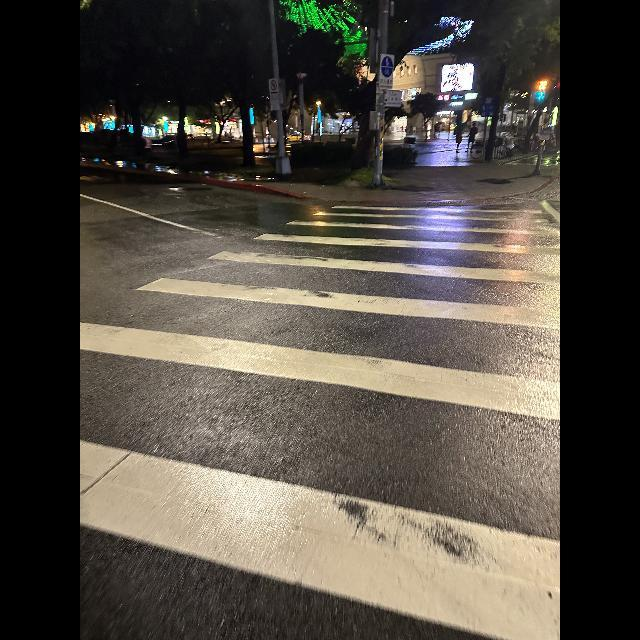sidewalk: (80, 207, 560, 640)
